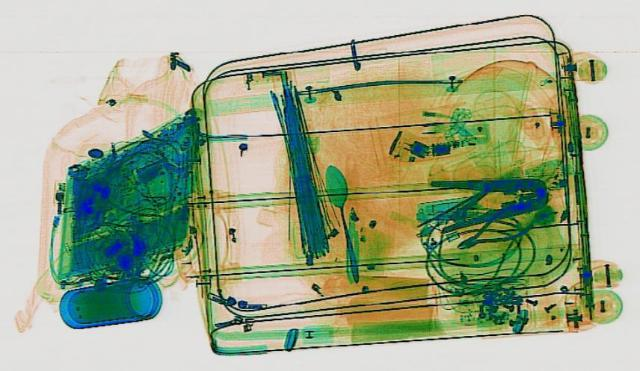Pliers: (421, 168, 559, 231), (440, 201, 548, 256)
